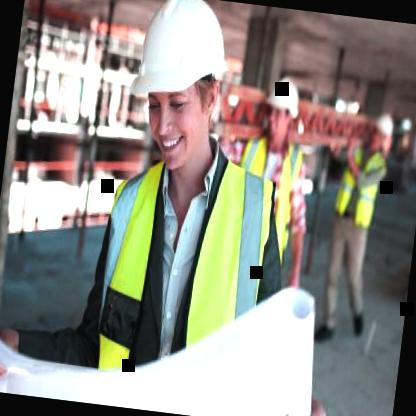helmet: (112, 0, 241, 185), (260, 72, 303, 151)
